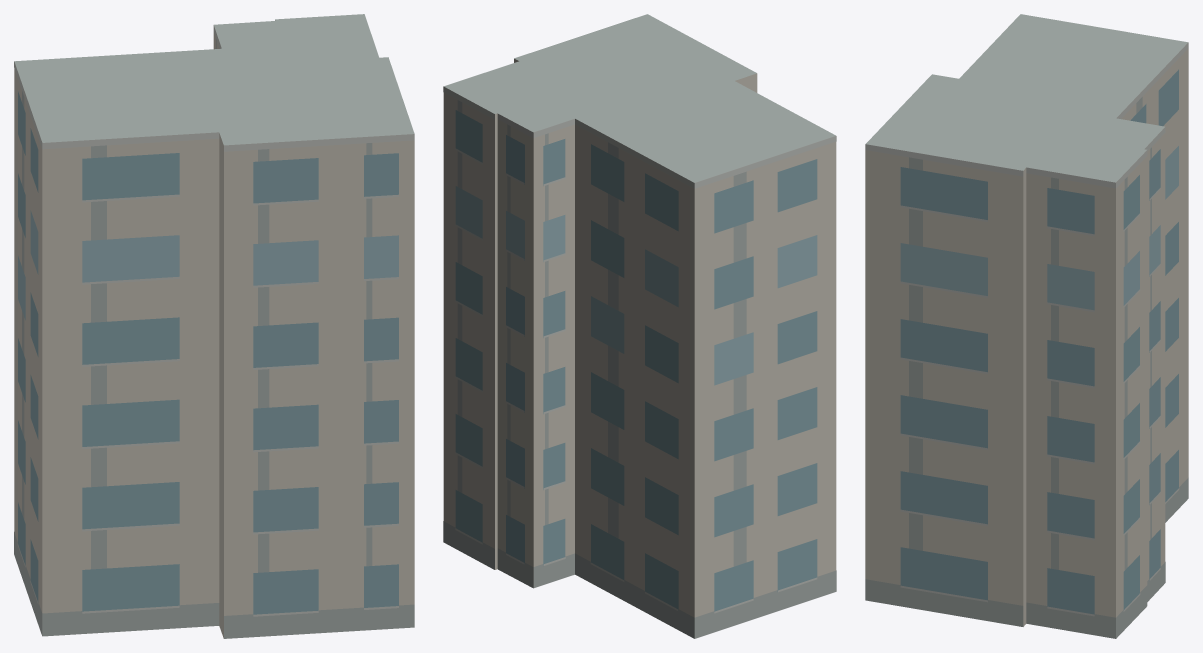
Rendered from survey-upis-32894860.glb.
3 views of the same model, side by side, from view 1: azimuth 30°, elevation 25°; view 2: azimuth 150°, elevation 25°; view 3: azimuth 270°, elevation 25° (orthographic). The views are drawn at different scales.
Visible parts, largest first — view 1: survey-upis-32894860.tmp; view 2: survey-upis-32894860.tmp; view 3: survey-upis-32894860.tmp.
Part boxes in pixels (x1=…): survey-upis-32894860.tmp: x1=14, y1=14, x2=414, y2=638; survey-upis-32894860.tmp: x1=443, y1=14, x2=836, y2=638; survey-upis-32894860.tmp: x1=865, y1=14, x2=1188, y2=638.
Size of the model in its own units: 15.11 by 19.05 by 12.23.
